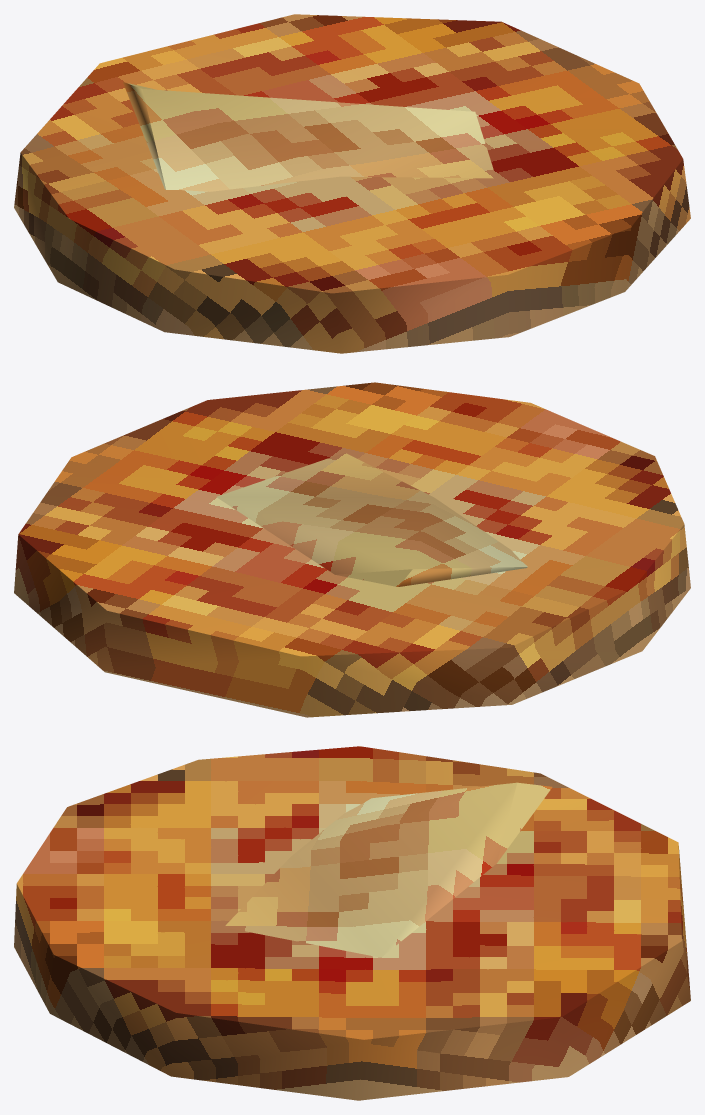
File: edb_food_pizza_s1_l2.fbx
3 renders of one model, top to bottom at view 1: azimuth 30°, elevation 25°; view 2: azimuth 150°, elevation 25°; view 3: azimuth 270°, elevation 25°, orthographic. The views are drawn at different scales.
Visible parts, largest first — view 1: mesh_node; view 2: mesh_node; view 3: mesh_node.
Boxes of the visible parts, x1=… form: mesh_node: x1=14, y1=14, x2=690, y2=353; mesh_node: x1=14, y1=382, x2=690, y2=717; mesh_node: x1=14, y1=746, x2=690, y2=1100.
Bounding box in the file's own units: 0.3514 × 0.0607 × 0.3402.
1 material, 1 textured.
